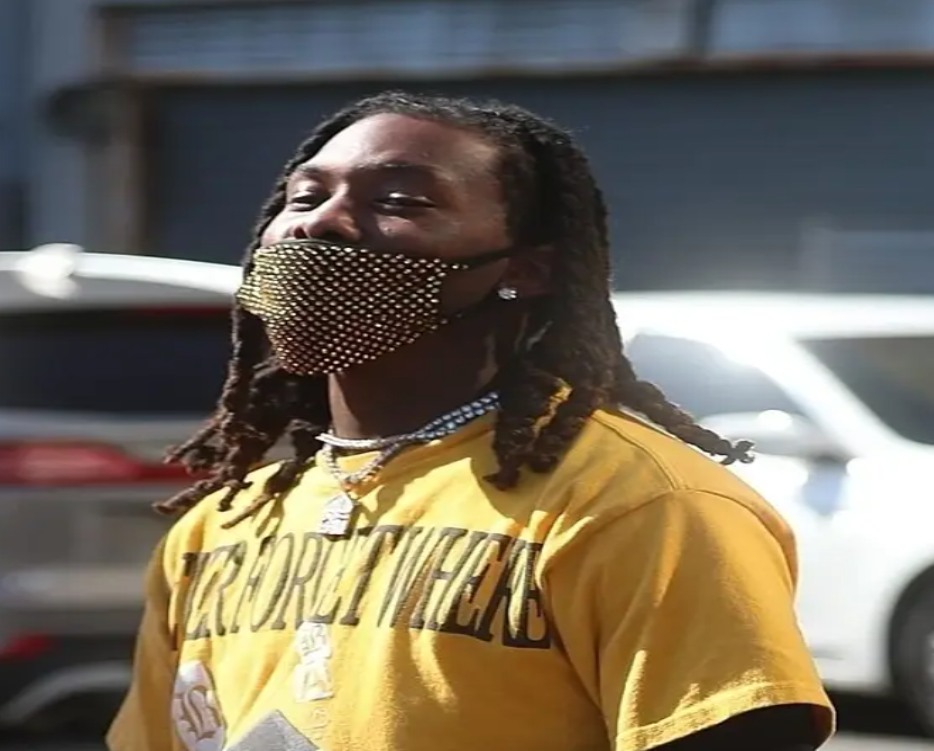mask_weared_incorrect: (229, 90, 602, 377)
